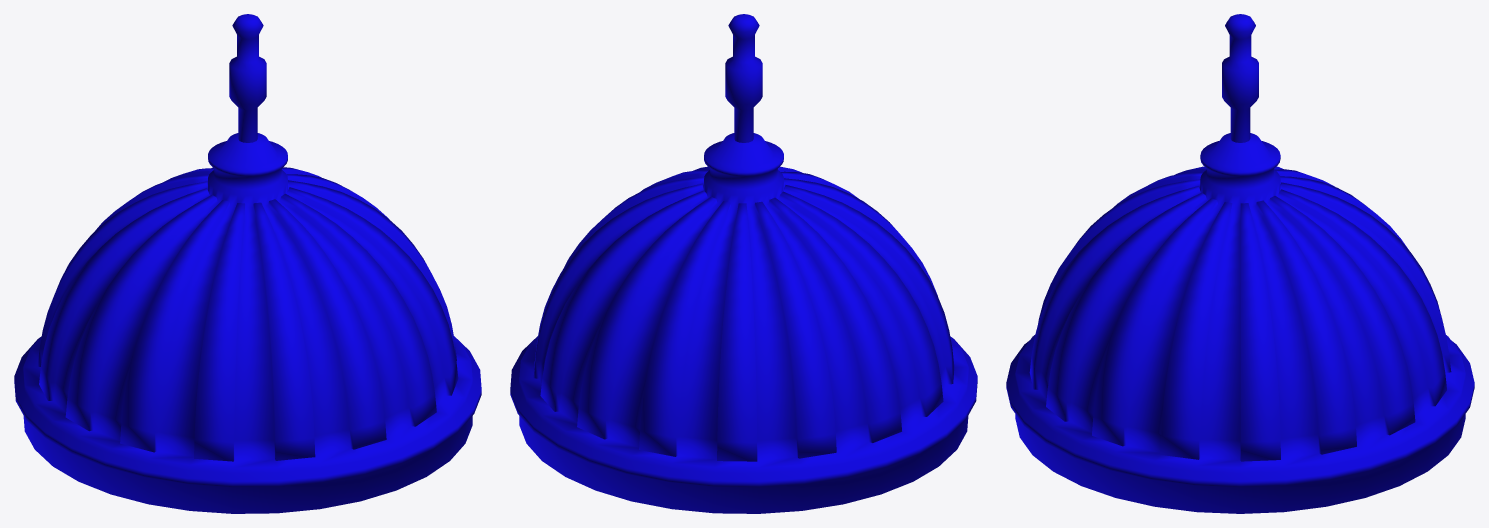
The model's file is SM_Dome_Jardin.fbx.
3 views of the same model, side by side, from view 1: azimuth 30°, elevation 25°; view 2: azimuth 150°, elevation 25°; view 3: azimuth 270°, elevation 25° (orthographic).
Visible parts, largest first — view 1: SM_Dome_Jardin; view 2: SM_Dome_Jardin; view 3: SM_Dome_Jardin.
Part boxes in pixels (<box>): SM_Dome_Jardin: <box>14,14,481,513</box>; SM_Dome_Jardin: <box>510,14,977,513</box>; SM_Dome_Jardin: <box>1006,14,1474,513</box>.
Size of the model in its own units: 9.6 by 9.1 by 9.6.
